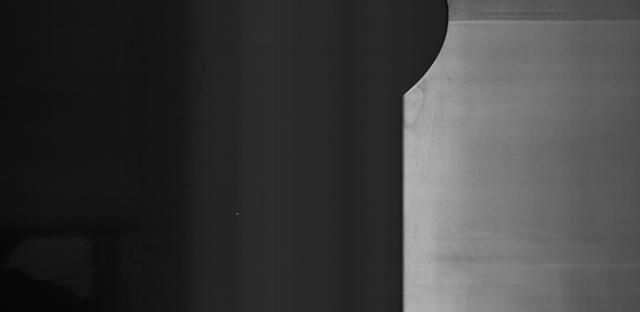crescent_gap: (386, 0, 464, 102)
